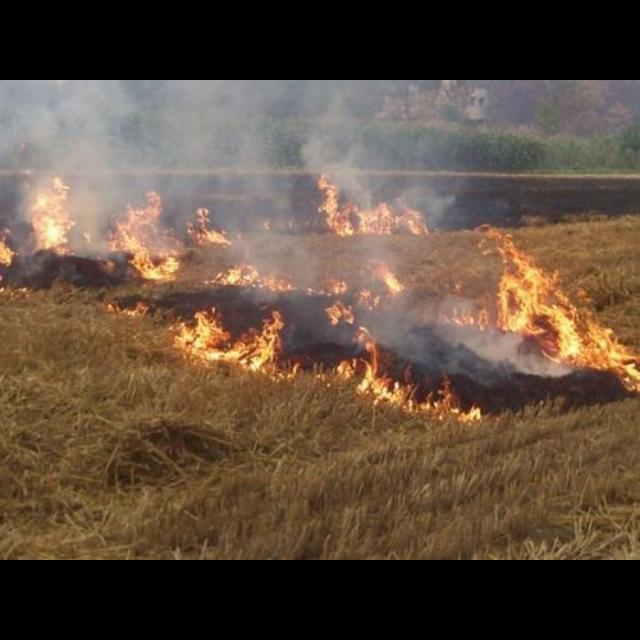Fire: (478, 218, 640, 396), (323, 327, 485, 429), (205, 260, 409, 324), (173, 310, 301, 382), (316, 174, 432, 236), (110, 190, 180, 282), (23, 175, 72, 255), (185, 204, 232, 246), (105, 300, 149, 316), (2, 238, 14, 266)
Smoke: (2, 82, 574, 386)
